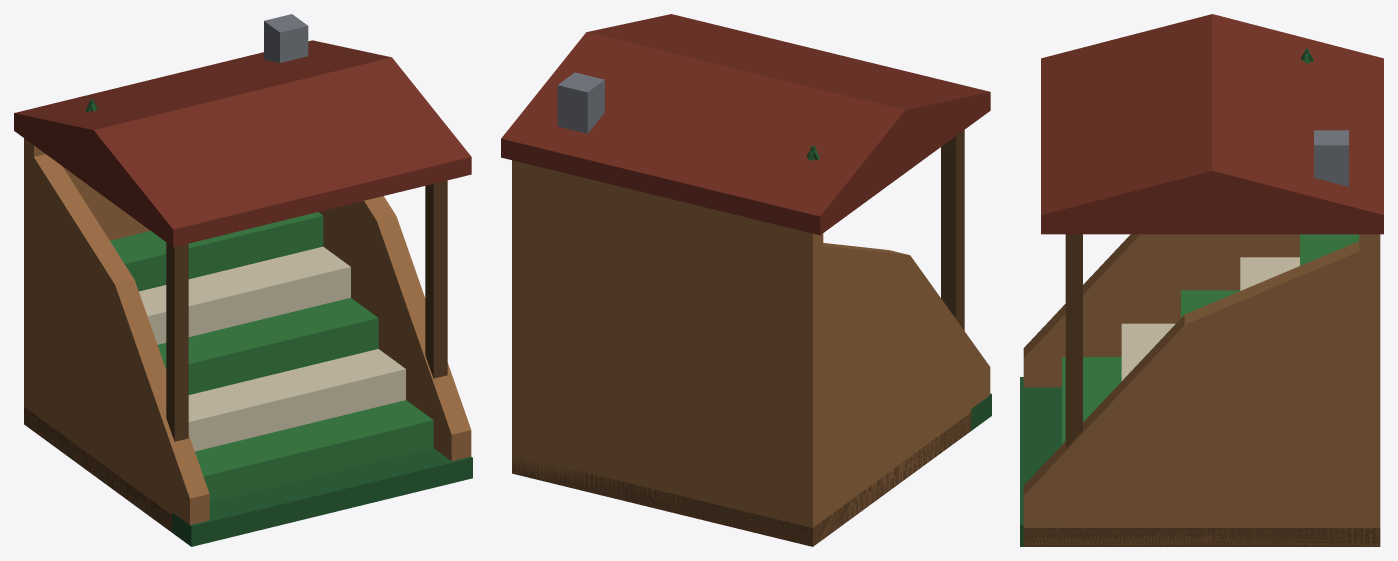
File: stand.glb
3 views of the same model, side by side, from view 1: azimuth 30°, elevation 25°; view 2: azimuth 150°, elevation 25°; view 3: azimuth 270°, elevation 25° (orthographic). The views are drawn at different scales.
Visible parts, largest first — view 1: pineValley-stand; view 2: pineValley-stand; view 3: pineValley-stand.
Part boxes in pixels (x1=…): pineValley-stand: x1=14, y1=14, x2=472, y2=546; pineValley-stand: x1=501, y1=14, x2=991, y2=546; pineValley-stand: x1=1020, y1=14, x2=1383, y2=546.
Bounding box in the file's own units: 1.06 × 1.22 × 1.04.
